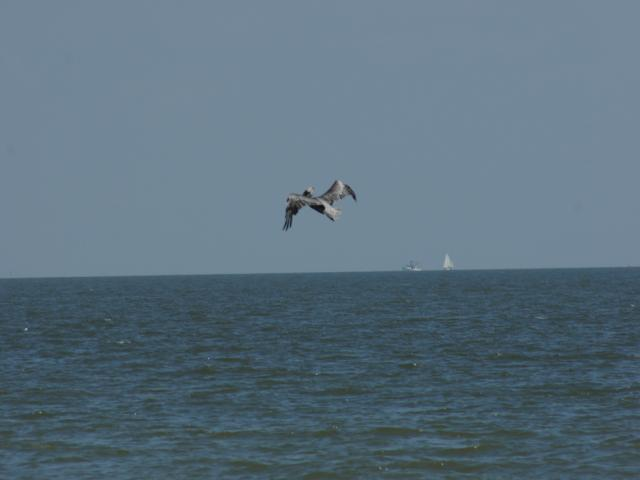Bird: (280, 180, 354, 230)
